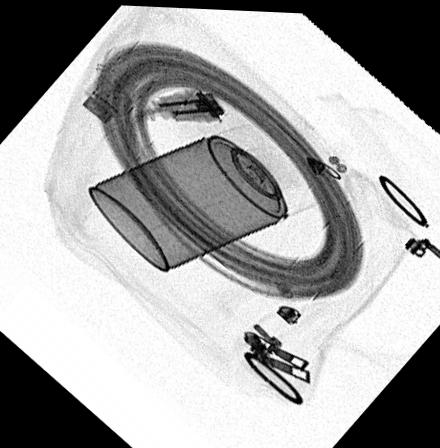Sprayer: (85, 121, 322, 271)
